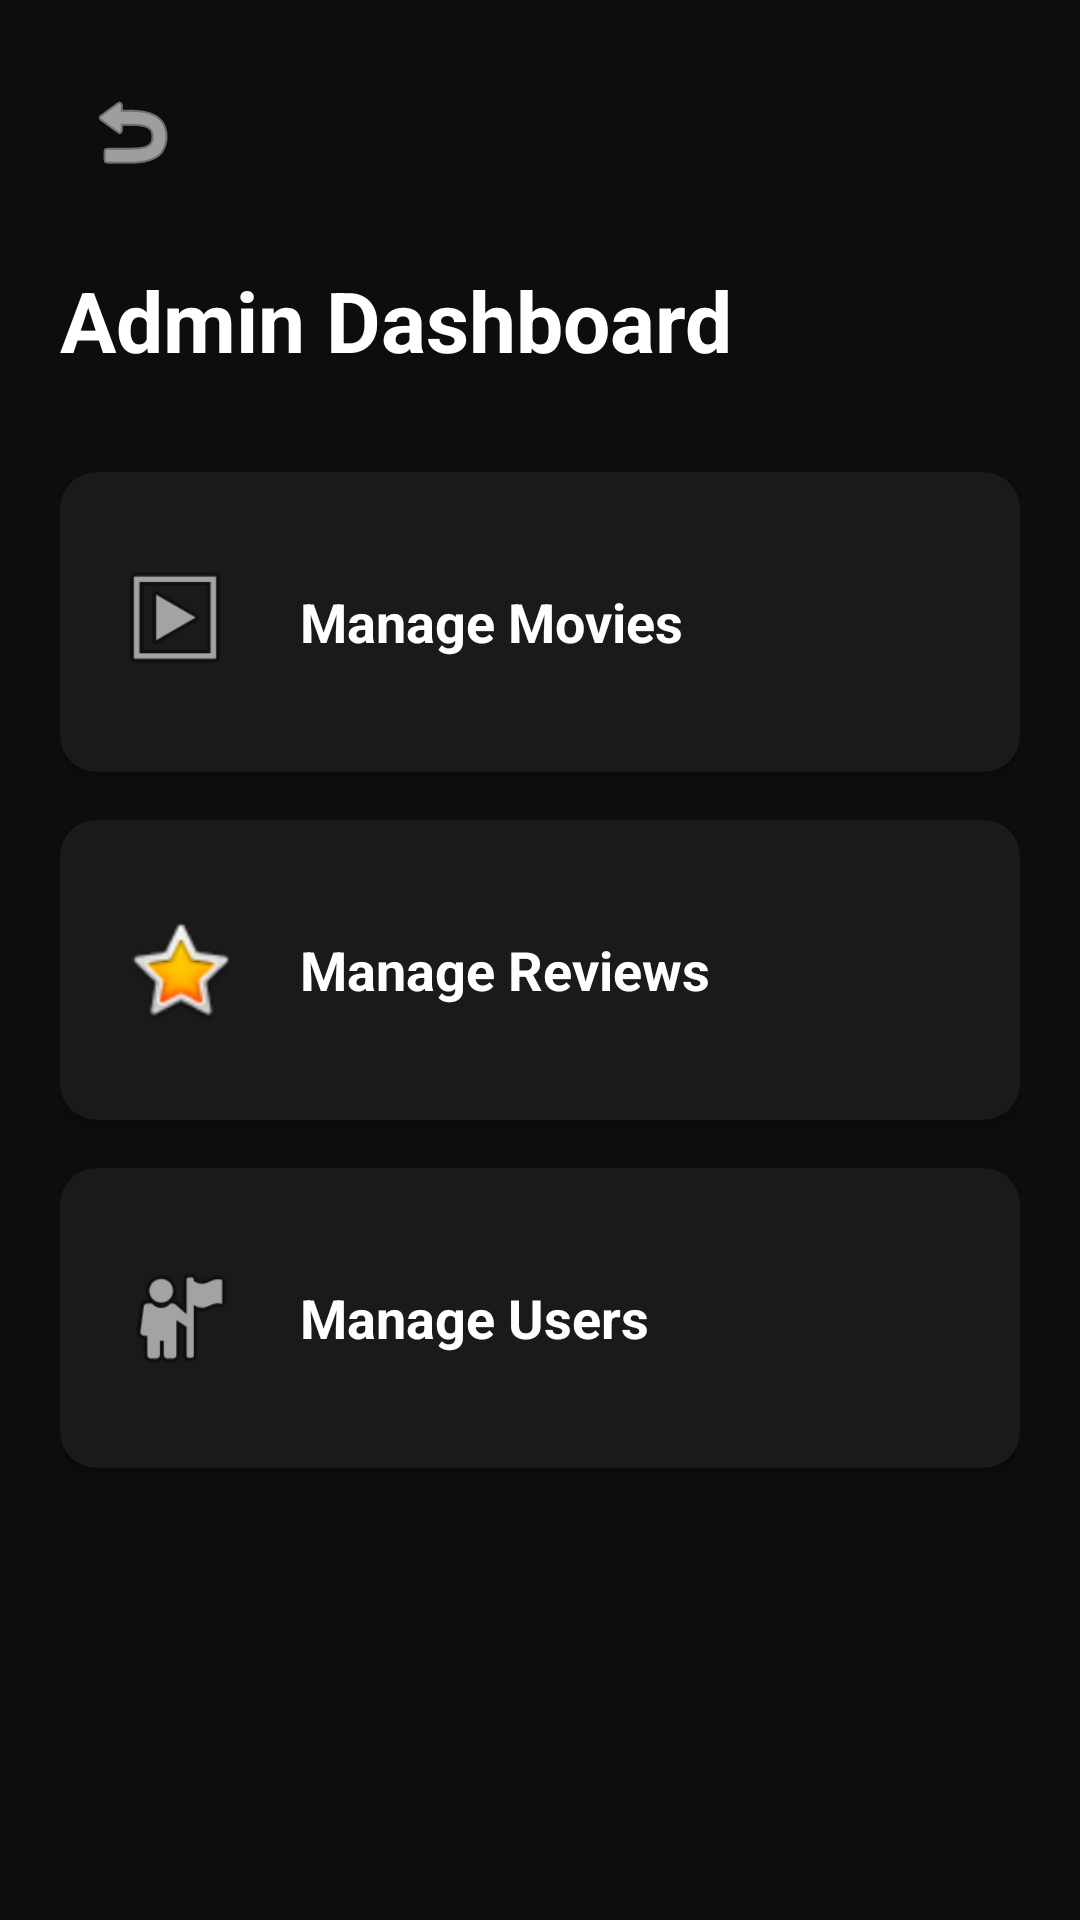

Point at icon controls on the screen. Image size 1080 x 1920, points as [x,y].
myplaces: [181,1318]
revert: [133,132]
slideshow: [175,617]
star on: [181,969]
